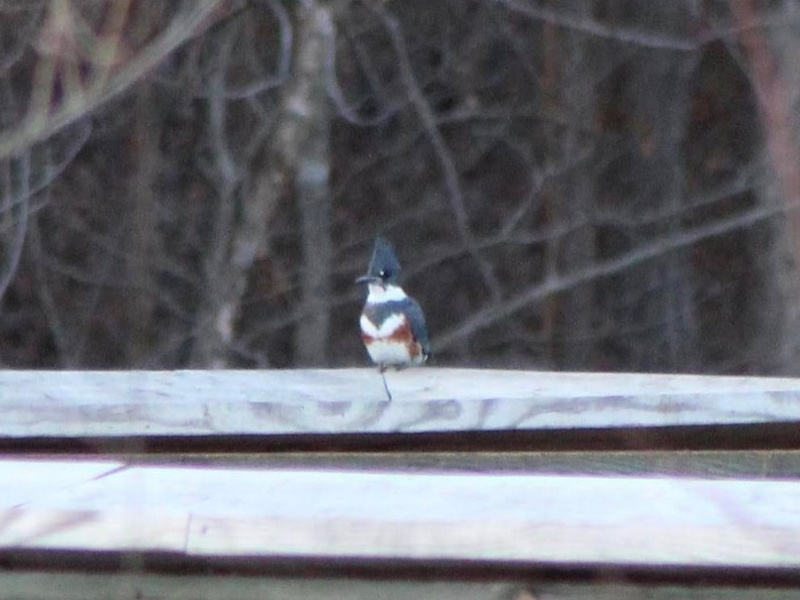kingfisher: (352, 235, 433, 368)
